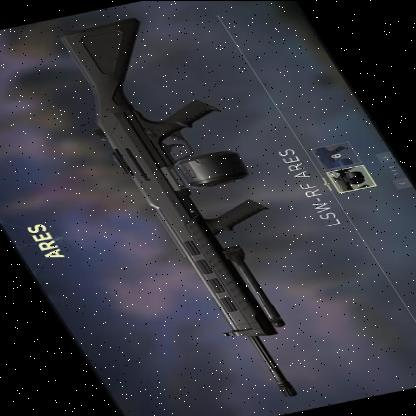rifle: (30, 9, 401, 402)
